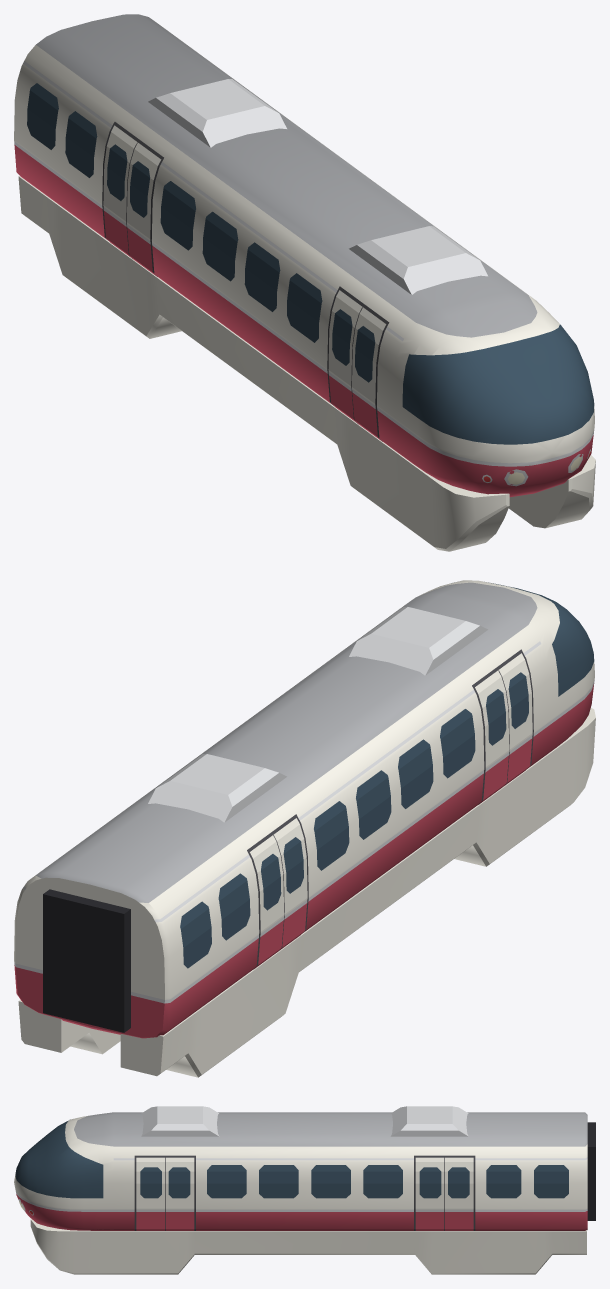
The picture shows the model from 3 angles, top to bottom: view 1: azimuth 30°, elevation 25°; view 2: azimuth 150°, elevation 25°; view 3: azimuth 270°, elevation 25°; orthographic projection. The views are drawn at different scales.
Parts seen in each view (by area): view 1: 24_2; view 2: 24_2; view 3: 24_2.
Part boxes in pixels (box(x1,y1,x2,y2)): 24_2: box(14, 14, 595, 551); 24_2: box(14, 580, 595, 1077); 24_2: box(14, 1106, 595, 1274).
Bounding box in the file's own units: 2.72 × 3.7 × 14.
